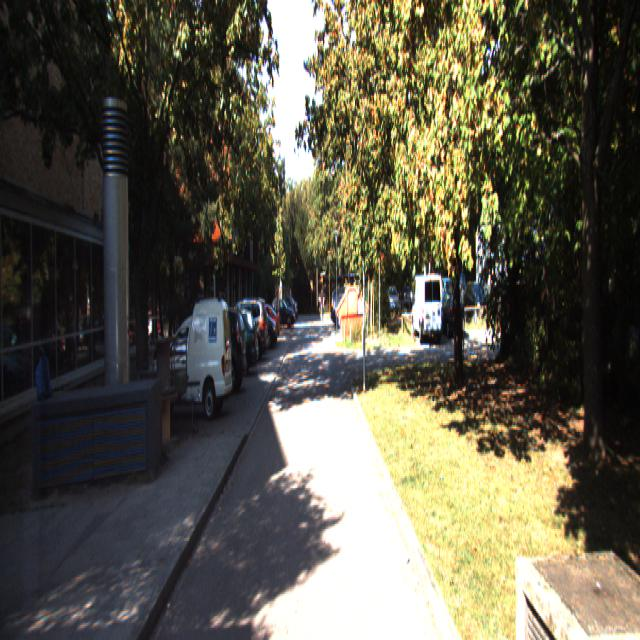Car: (150, 294, 233, 423), (176, 304, 248, 398), (200, 306, 259, 375), (214, 297, 269, 363), (411, 270, 444, 344)
